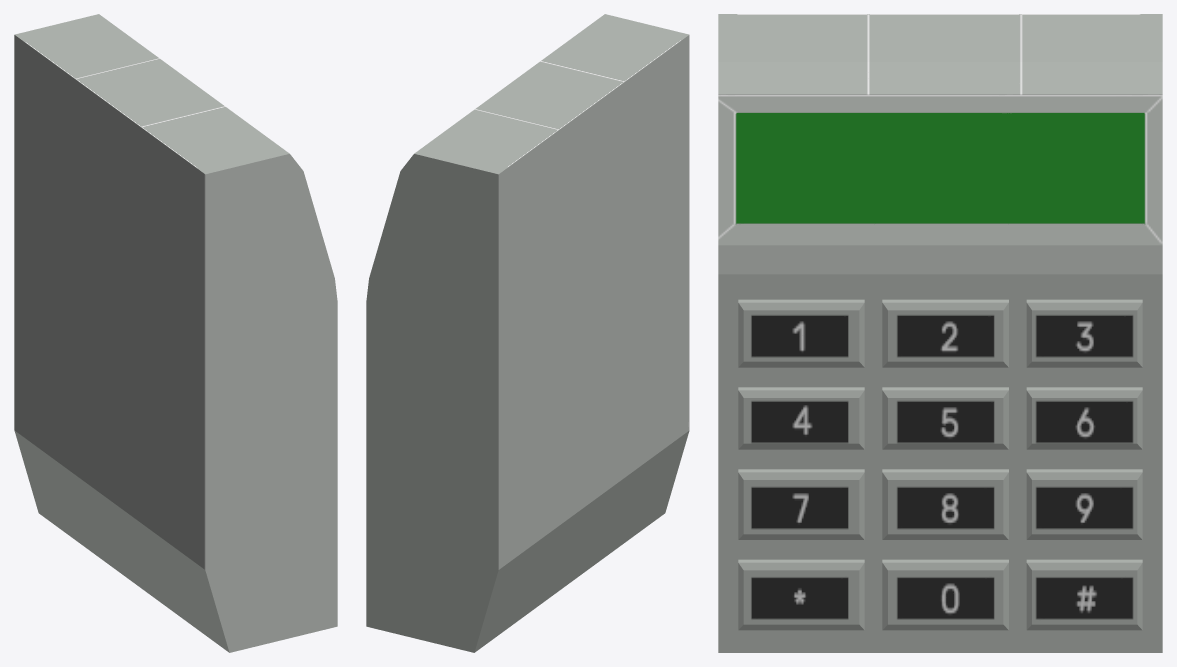
The model's file is Digicode.fbx.
3 views of the same model, side by side, from view 1: azimuth 30°, elevation 25°; view 2: azimuth 150°, elevation 25°; view 3: azimuth 270°, elevation 25° (orthographic). The views are drawn at different scales.
Visible parts, largest first — view 1: Cube; view 2: Cube; view 3: Cube.
Boxes of the visible parts, bbox=[...] form: Cube: bbox=[14, 14, 337, 652]; Cube: bbox=[366, 14, 689, 652]; Cube: bbox=[718, 14, 1162, 652].
Size of the model in its own units: 21 by 70 by 50.
